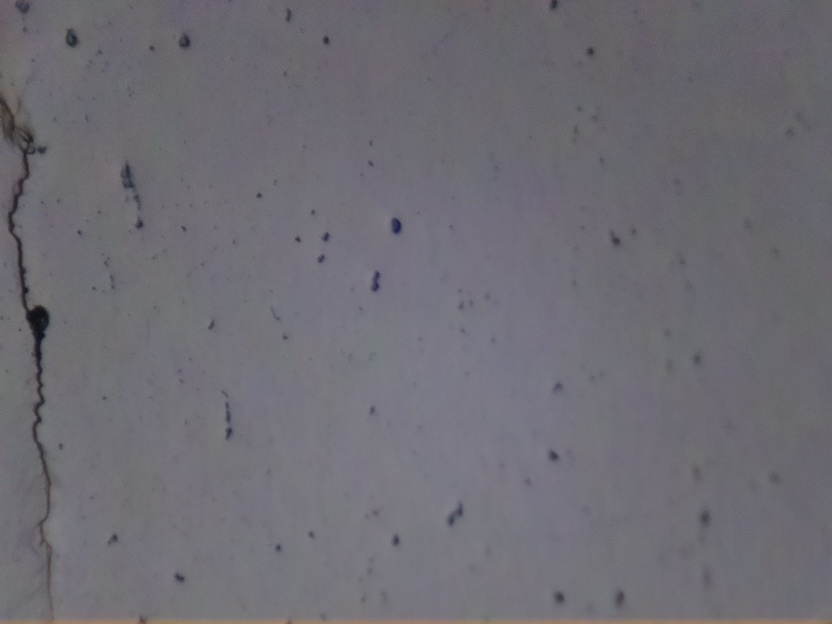crack: (5, 101, 64, 621)
